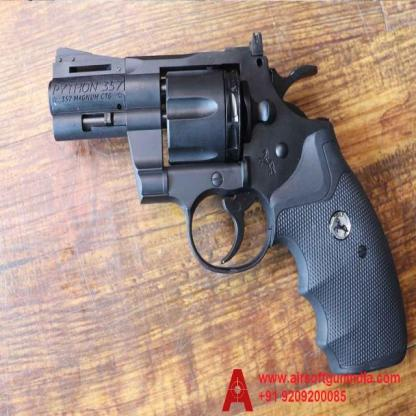handgun: (50, 44, 414, 378)
